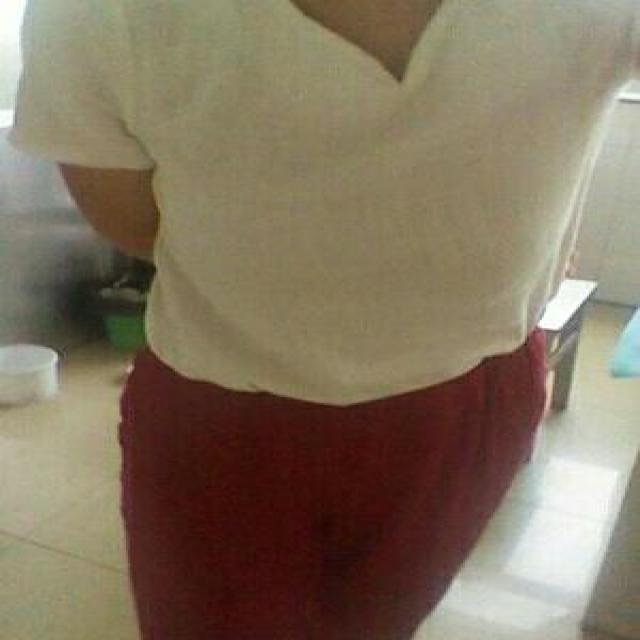short sleeve top: (13, 2, 638, 397)
trousers: (126, 326, 535, 638)
